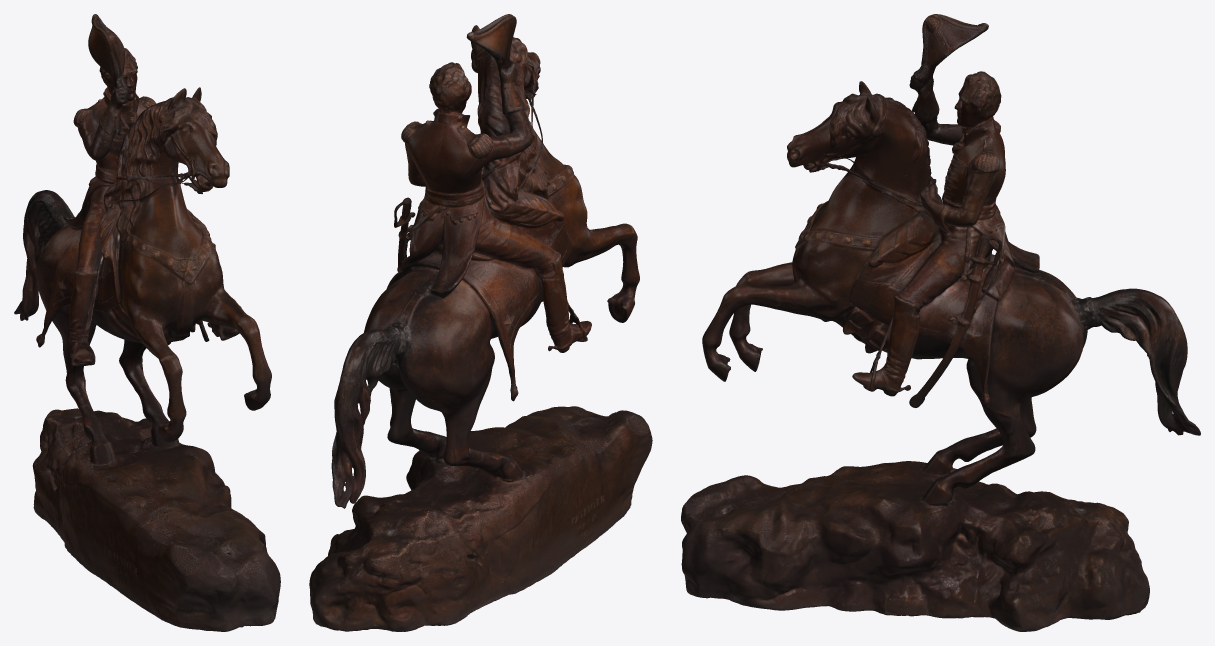
File: andrewJacksonStatue.gltf
3 views of the same model, side by side, from view 1: azimuth 30°, elevation 25°; view 2: azimuth 150°, elevation 25°; view 3: azimuth 270°, elevation 25° (orthographic). The views are drawn at different scales.
Size of the model in its own units: 222 by 612 by 517.
1 material, 1 textured.
